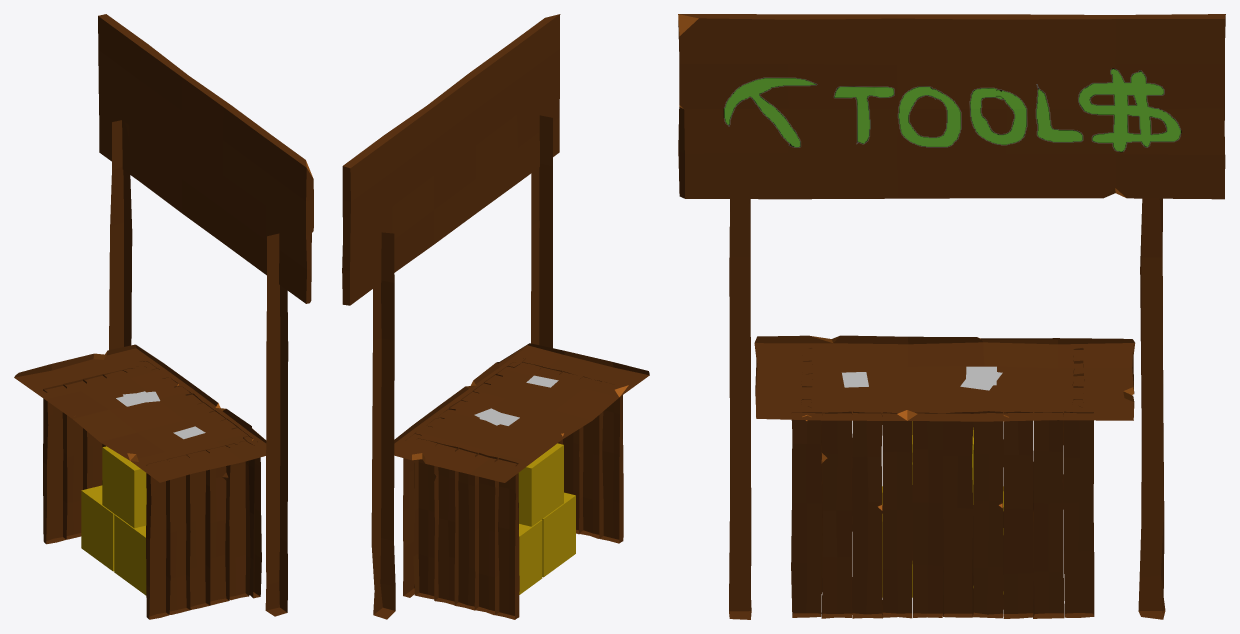
File: limonata(1).glb
3 views of the same model, side by side, from view 1: azimuth 30°, elevation 25°; view 2: azimuth 150°, elevation 25°; view 3: azimuth 270°, elevation 25° (orthographic). The views are drawn at different scales.
Visible parts, largest first — view 1: Cube.006, Cube.003, Cube.001, Cube.004, Cube.002, Cube.005, Cube.009, Cube.007, Cube.008, Cube; view 2: Cube.006, Cube.003, Cube.002, Cube.005, Cube.001, Cube.004, Cube.009, Cube.008, Cube, Cube.007; view 3: Cube.006, Cube, Cube.003, Cube.010, Cube.005, Cube.004.
Boxes of the visible parts, <box> form: Cube.006: <box>98,14,313,303</box>; Cube.003: <box>14,344,266,482</box>; Cube.001: <box>146,441,250,619</box>; Cube.004: <box>265,233,288,616</box>; Cube.002: <box>43,366,146,544</box>; Cube.005: <box>109,120,132,349</box>; Cube.009: <box>102,446,146,528</box>; Cube.007: <box>81,485,114,571</box>; Cube.008: <box>114,514,146,595</box>; Cube: <box>139,361,261,598</box>; Cube.006: <box>342,14,560,305</box>; Cube.003: <box>394,343,649,482</box>; Cube.002: <box>413,438,519,619</box>; Cube.005: <box>371,232,395,619</box>; Cube.001: <box>519,362,623,543</box>; Cube.004: <box>531,115,552,347</box>; Cube.009: <box>518,443,563,526</box>; Cube.008: <box>542,492,575,577</box>; Cube: <box>403,358,525,597</box>; Cube.007: <box>519,519,542,594</box>; Cube.006: <box>678,14,1225,199</box>; Cube: <box>791,411,1094,618</box>; Cube.003: <box>754,335,1135,421</box>; Cube.010: <box>723,68,1181,152</box>; Cube.005: <box>1138,198,1165,619</box>; Cube.004: <box>729,199,751,619</box>.
Bounding box in the file's own units: 1.32 × 4.52 × 3.7.
6 materials, 1 textured.
